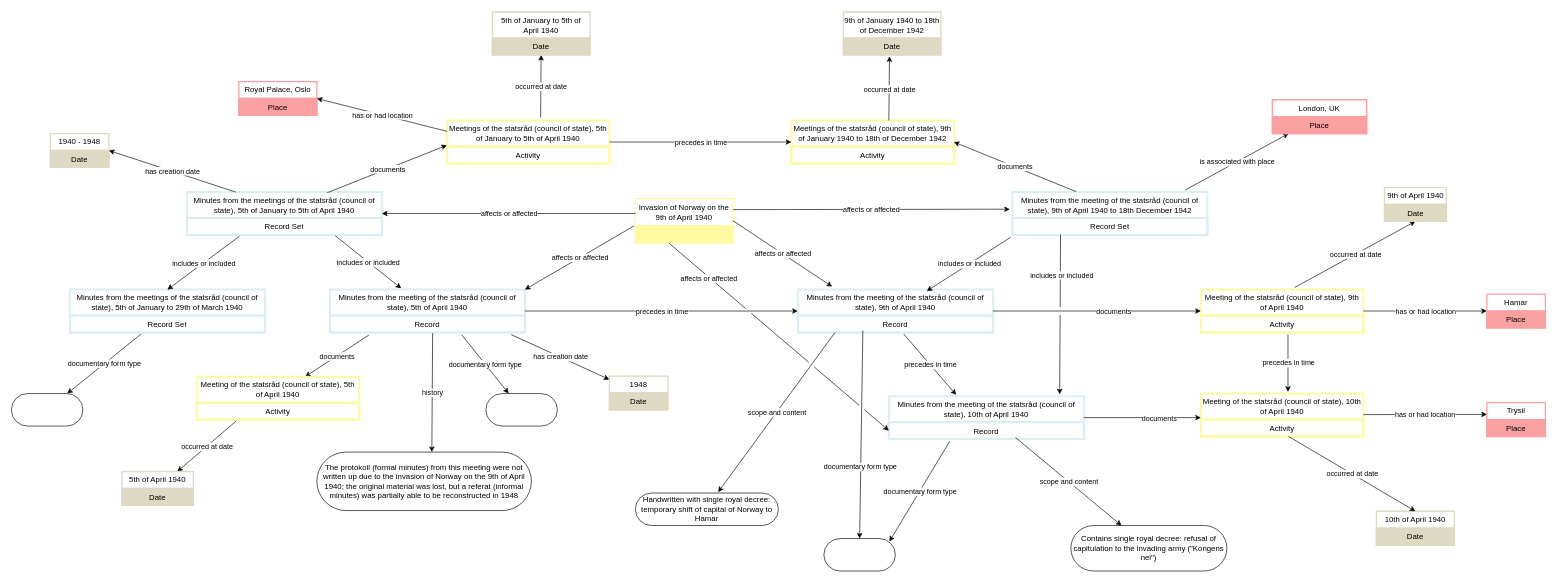
Some shapes in this 1557 by 582 pixel diagram are drawn without their labels. Each missing label, with the centre of its shape:
Event: point 683,234
Protokoll (formal minutes: point 47,409
Protokoll (formal minutes): point 859,554
Referat (informal minutes): point 521,409
